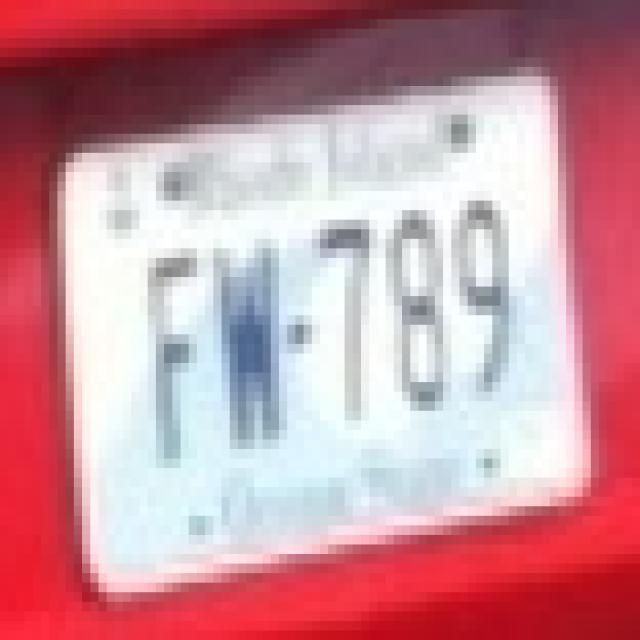licenseplate: (50, 133, 598, 590)
